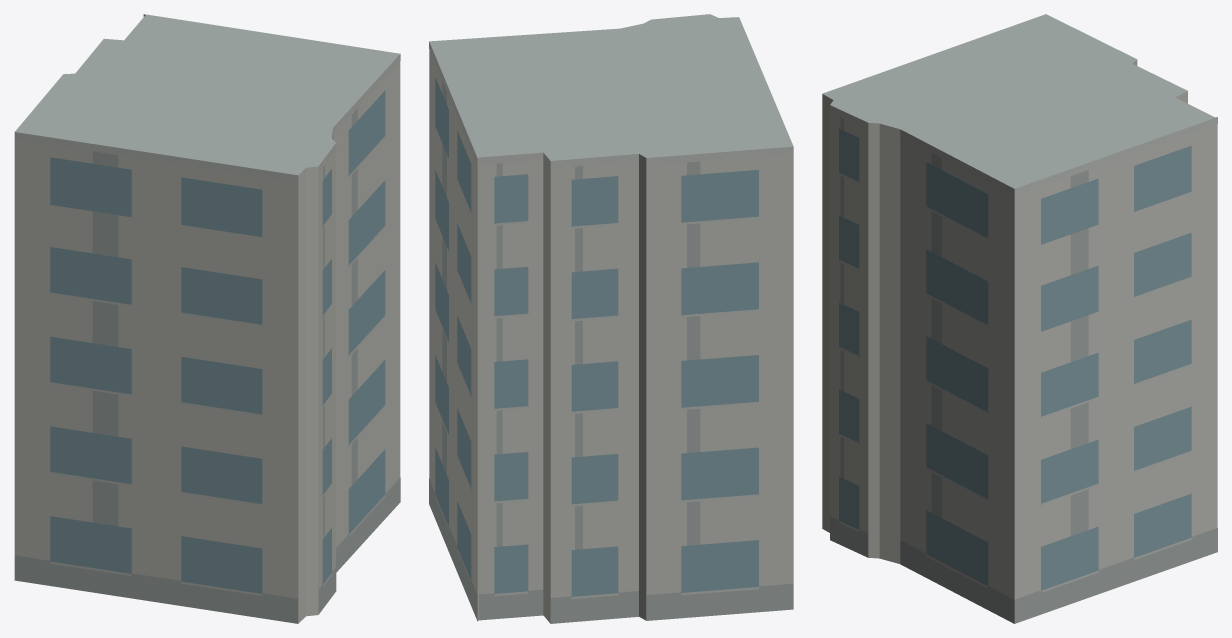
File: survey-upis-32937604.glb
The picture shows the model from 3 angles, left to right: view 1: azimuth 30°, elevation 25°; view 2: azimuth 150°, elevation 25°; view 3: azimuth 270°, elevation 25°; orthographic projection. The views are drawn at different scales.
Parts seen in each view (by area): view 1: survey-upis-32937604.tmp; view 2: survey-upis-32937604.tmp; view 3: survey-upis-32937604.tmp.
Boxes of the visible parts, <box> form: survey-upis-32937604.tmp: <box>14,14,400,623</box>; survey-upis-32937604.tmp: <box>429,14,793,623</box>; survey-upis-32937604.tmp: <box>822,14,1217,623</box>.
Size of the model in its own units: 12.77 by 14.8 by 12.21.
